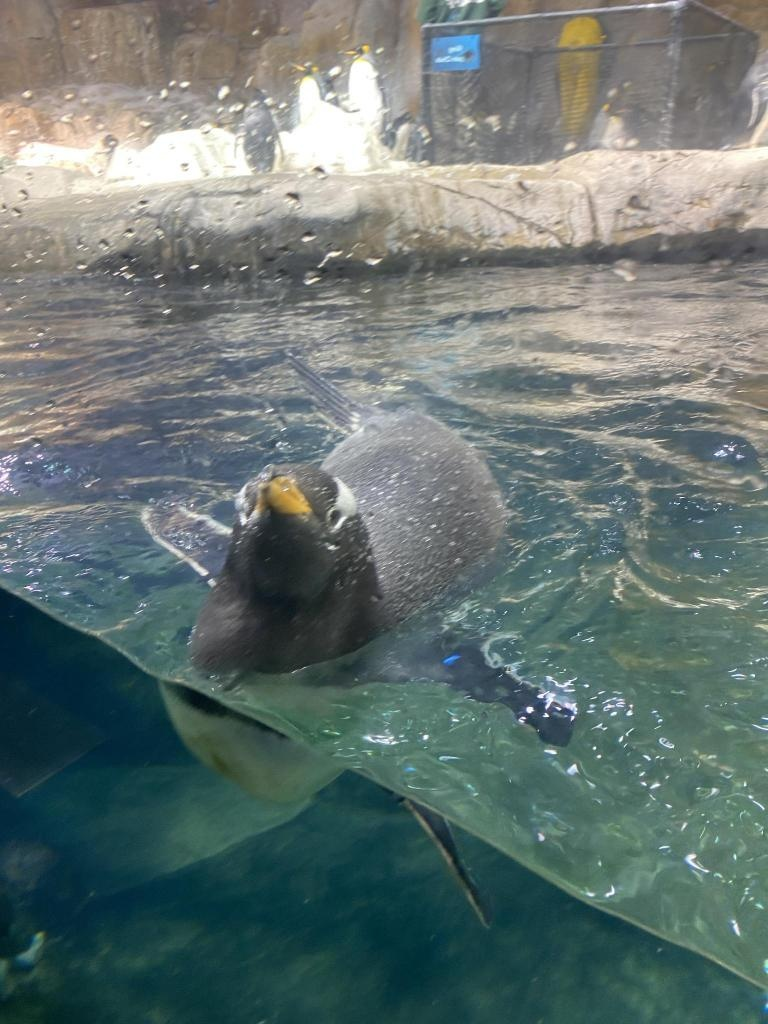penguin: (139, 346, 579, 934), (338, 42, 392, 140), (722, 47, 768, 149), (234, 84, 284, 174), (291, 62, 329, 130), (590, 96, 630, 152)
